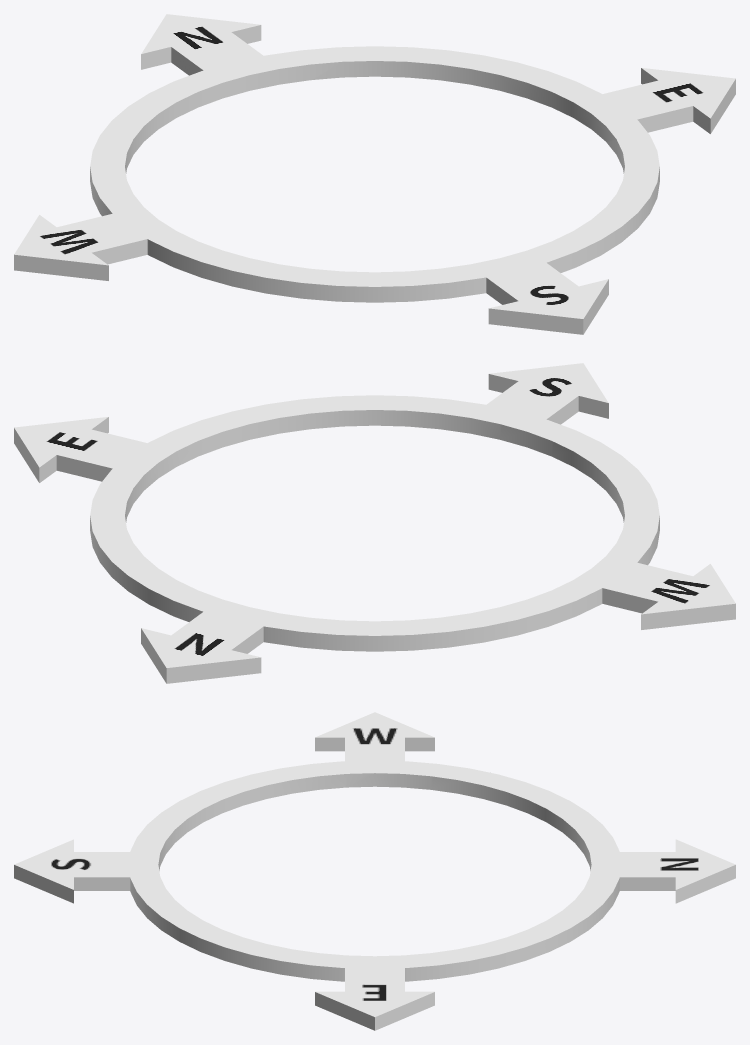
Rendered from arrowcircle.fbx.
The picture shows the model from 3 angles, top to bottom: view 1: azimuth 30°, elevation 25°; view 2: azimuth 150°, elevation 25°; view 3: azimuth 270°, elevation 25°; orthographic projection. The views are drawn at different scales.
Parts seen in each view (by area): view 1: Cylinder_Extrude_5_Cylinder_1; view 2: Cylinder_Extrude_5_Cylinder_1; view 3: Cylinder_Extrude_5_Cylinder_1.
Part boxes in pixels (x1=…): Cylinder_Extrude_5_Cylinder_1: x1=14, y1=14, x2=735, y2=334; Cylinder_Extrude_5_Cylinder_1: x1=14, y1=363, x2=735, y2=683; Cylinder_Extrude_5_Cylinder_1: x1=14, y1=712, x2=735, y2=1030.
Size of the model in its own units: 240 by 5 by 240.
1 material, 1 textured.
